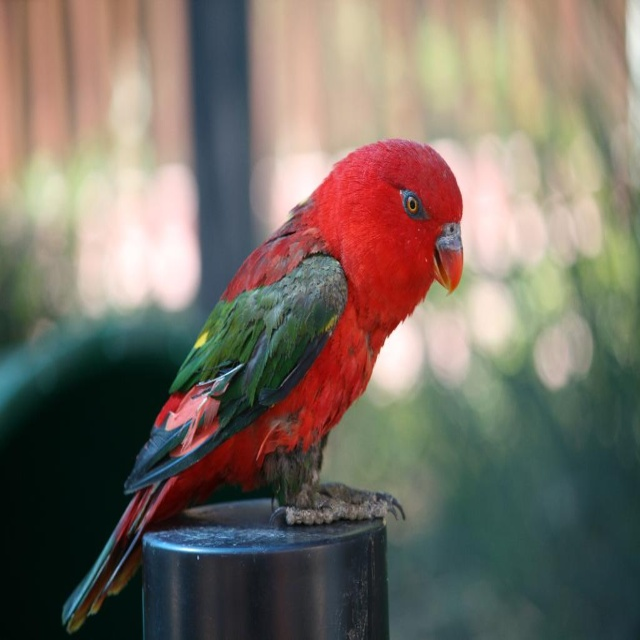Parrot: (62, 139, 463, 634)
